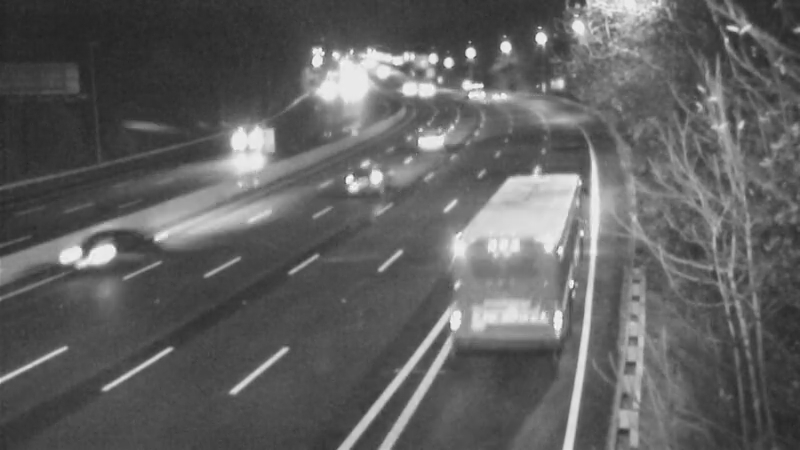vehicle: (323, 140, 403, 220), (466, 228, 546, 308), (441, 58, 491, 108), (383, 58, 433, 108), (399, 63, 449, 113), (472, 68, 522, 118), (405, 113, 455, 163), (212, 119, 262, 169)
